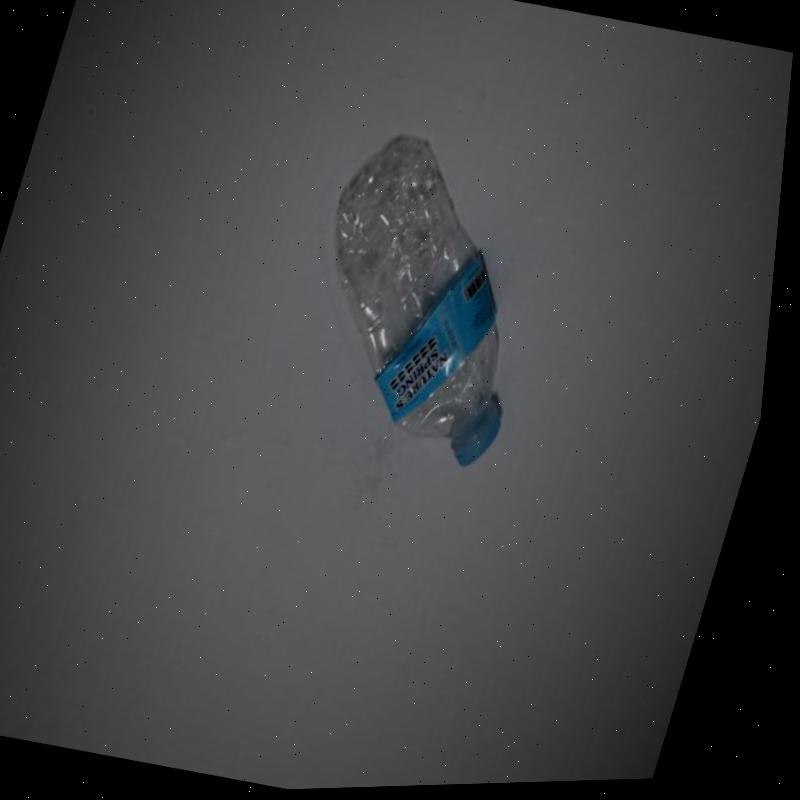botella: (274, 117, 590, 484)
